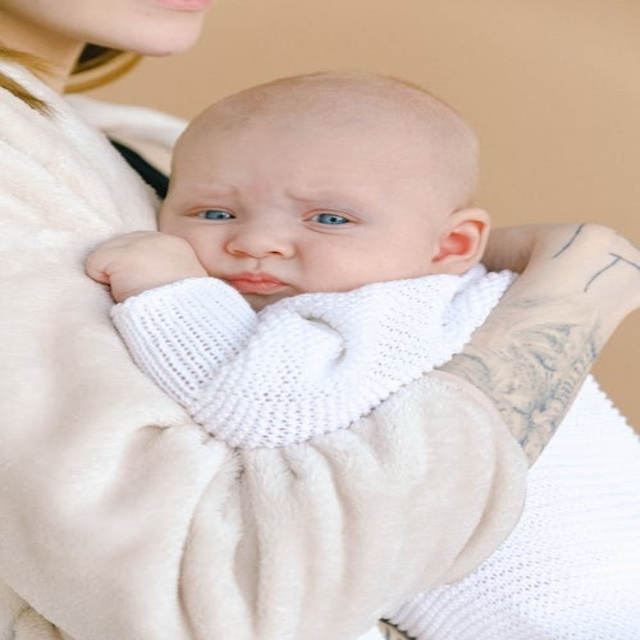Sin_gafas: (172, 179, 387, 239)
Sin_mascara: (216, 265, 297, 297)
